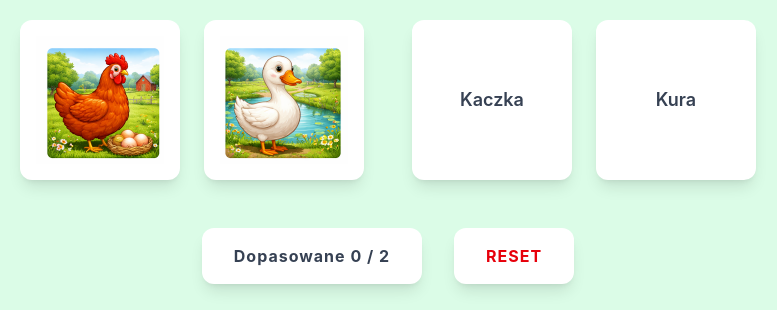
Scenario: Board Component › allows matching animals
# Find the picture card for Kura
Click the picture named "Kura" at (100, 100), box [36,36,164,164]
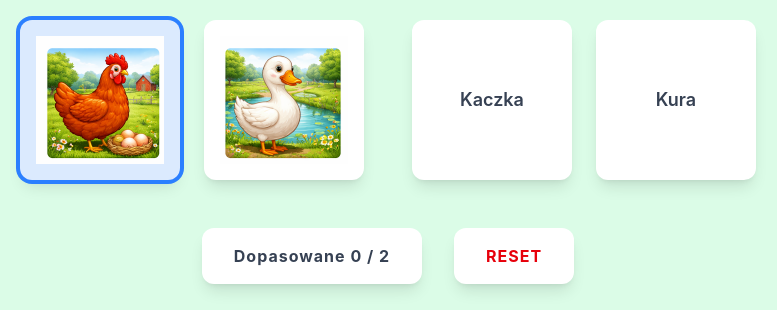
# Find the text card for Kura
Click the text "Kura" at (676, 100), box [656,86,696,114]
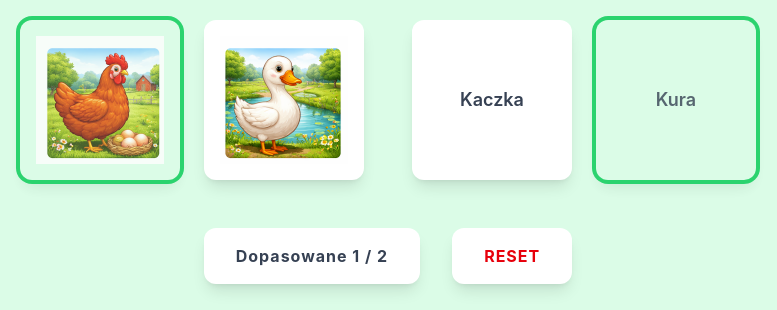
expect the text "Dopasowane 1 / 2" is shown: met, box [204,228,420,284]
